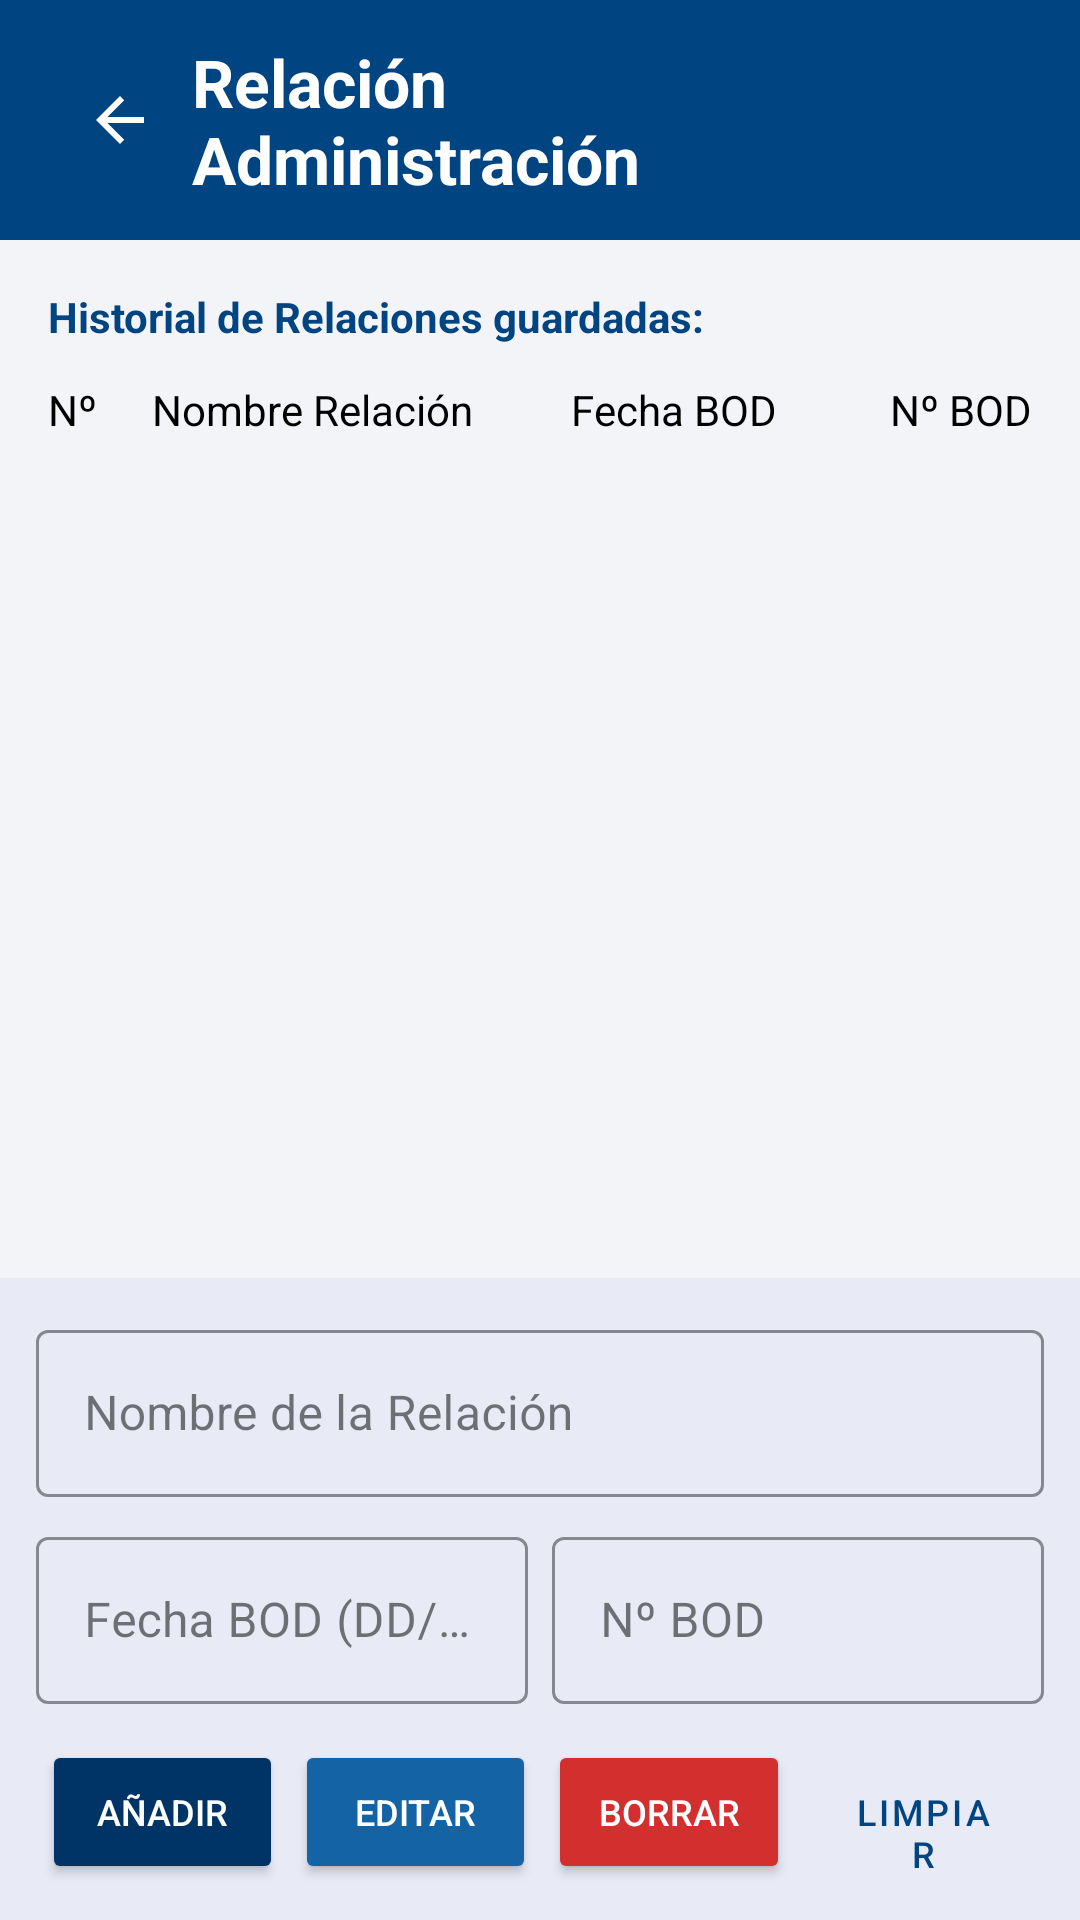

Named icons in this screenshot (1080x1920) and their bounding boxes, (x1, y1, x2, y2):
Volver: (96, 96, 144, 144)
